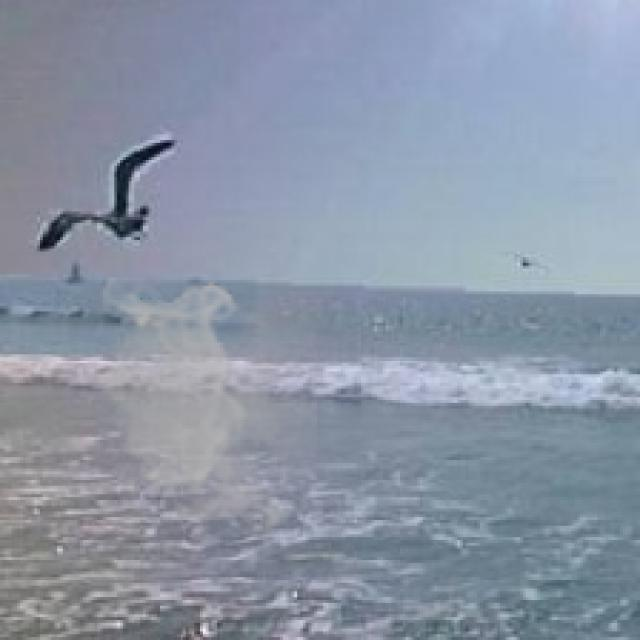Smoke: (89, 277, 318, 540)
